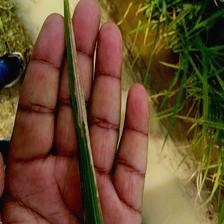Leaf_Blast: (75, 21, 96, 194)
